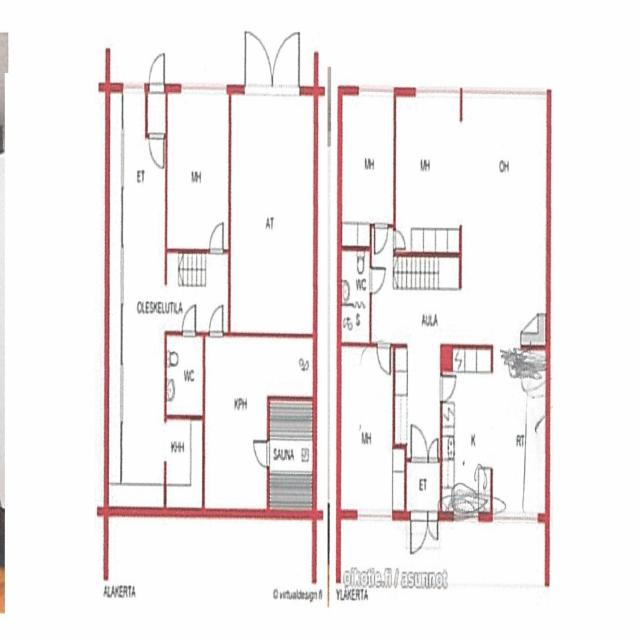door: (245, 32, 272, 94), (272, 32, 299, 94), (410, 513, 428, 554), (411, 426, 428, 463), (149, 58, 163, 94), (209, 304, 223, 338), (149, 134, 163, 167), (374, 223, 388, 254), (182, 306, 195, 338), (210, 222, 223, 253), (377, 344, 390, 374), (440, 376, 455, 401), (370, 268, 384, 294), (255, 442, 269, 466), (427, 512, 438, 540), (428, 438, 438, 462), (393, 229, 405, 249)
